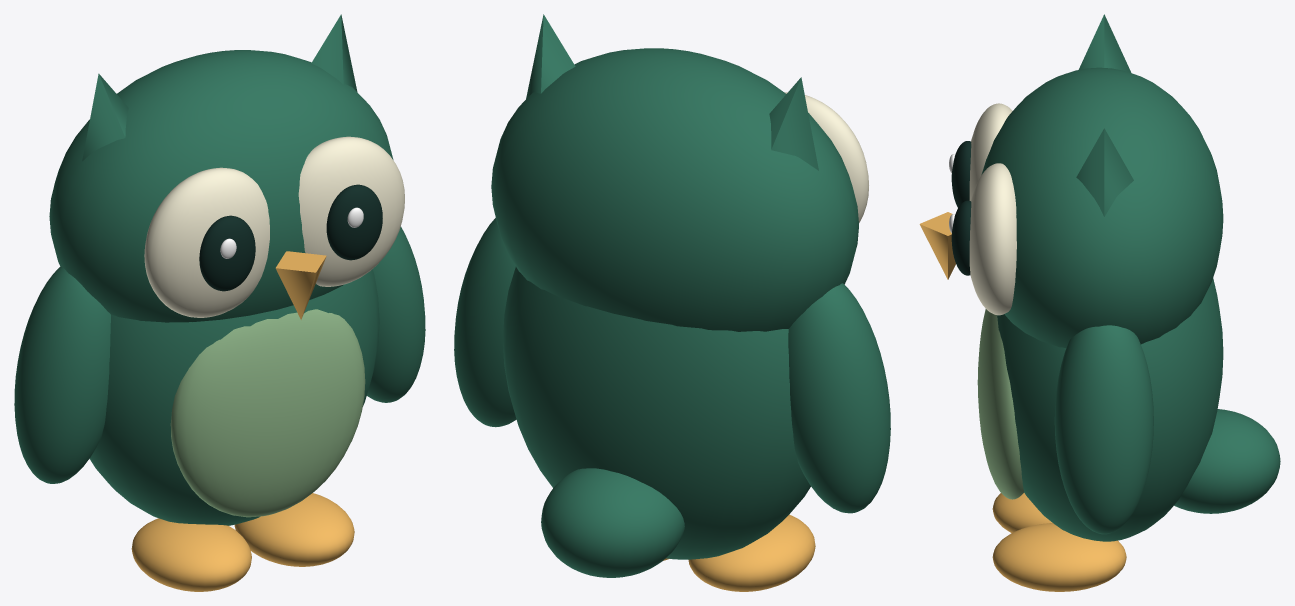
Rendered from opti.glb.
3 views of the same model, side by side, from view 1: azimuth 30°, elevation 25°; view 2: azimuth 150°, elevation 25°; view 3: azimuth 270°, elevation 25° (orthographic). The views are drawn at different scales.
Visible parts, largest first — view 1: Head shape, Belly, Wing feathers (×2), Body, Foot (×2), Left eye, Right eye, Pupil (×2), Ear tuft (×2), Beak; view 2: Head shape, Body, Wing feathers (×2), Tail, Foot, Ear tuft (×2), Left eye; view 3: Head shape, Body, Wing feathers, Foot (×2), Tail, Right eye, Belly, Ear tuft (×2), Pupil (×2), Left eye, Beak.
Boxes of the visible parts, left/top/right/bottom form: Head shape: left=49, top=50, right=393, bottom=322; Belly: left=170, top=309, right=365, bottom=517; Wing feathers (×2): left=14, top=226, right=425, bottom=483; Body: left=89, top=269, right=379, bottom=525; Foot (×2): left=131, top=493, right=354, bottom=591; Left eye: left=144, top=167, right=269, bottom=317; Right eye: left=298, top=136, right=404, bottom=286; Pupil (×2): left=199, top=184, right=382, bottom=291; Ear tuft (×2): left=82, top=14, right=357, bottom=161; Beak: left=275, top=251, right=326, bottom=319; Head shape: left=491, top=48, right=858, bottom=331; Body: left=503, top=267, right=810, bottom=559; Wing feathers (×2): left=454, top=218, right=890, bottom=513; Tail: left=541, top=468, right=684, bottom=577; Foot: left=688, top=514, right=815, bottom=591; Ear tuft (×2): left=526, top=14, right=818, bottom=170; Left eye: left=784, top=92, right=868, bottom=222; Head shape: left=981, top=67, right=1223, bottom=348; Body: left=997, top=278, right=1223, bottom=541; Wing feathers: left=1054, top=325, right=1153, bottom=534; Foot (×2): left=992, top=493, right=1126, bottom=591; Tail: left=1174, top=409, right=1280, bottom=513; Right eye: left=969, top=163, right=1016, bottom=315; Belly: left=977, top=309, right=1023, bottom=499; Ear tuft (×2): left=1076, top=14, right=1133, bottom=216; Pupil (×2): left=951, top=141, right=971, bottom=275; Left eye: left=969, top=103, right=1012, bottom=200; Beak: left=919, top=212, right=955, bottom=279.
Size of the model in its own units: 1.78 by 2.17 by 1.46.
